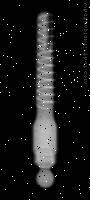Euroteknika: (32, 9, 58, 189)
